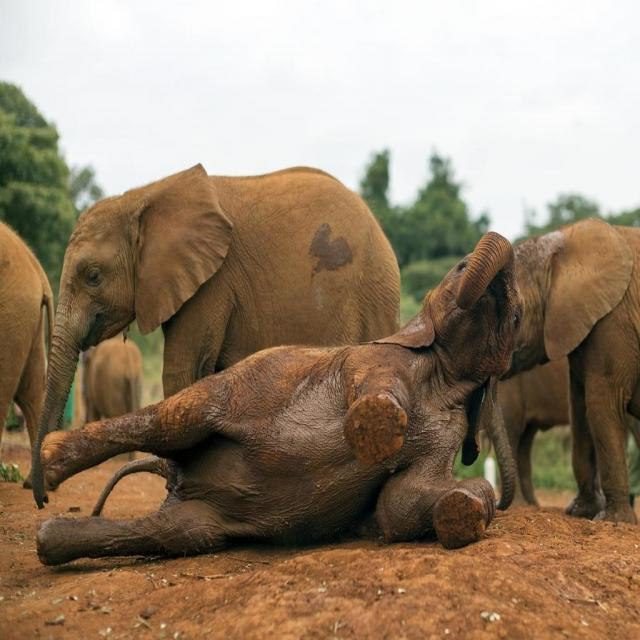elephant: (39, 235, 493, 558), (28, 161, 398, 502), (484, 223, 640, 522), (0, 213, 52, 477), (492, 351, 570, 505), (80, 339, 140, 454)
